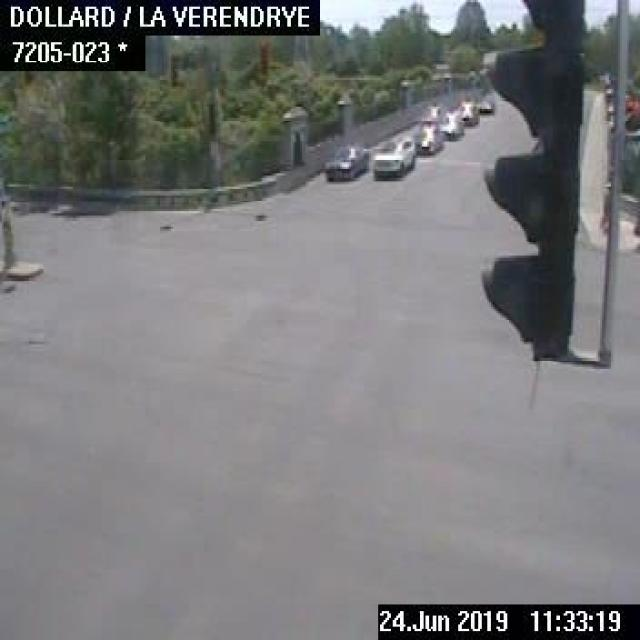vehicle: (369, 132, 415, 179), (320, 140, 366, 182), (416, 120, 443, 156), (441, 107, 463, 142), (458, 99, 478, 126), (476, 91, 495, 114)
